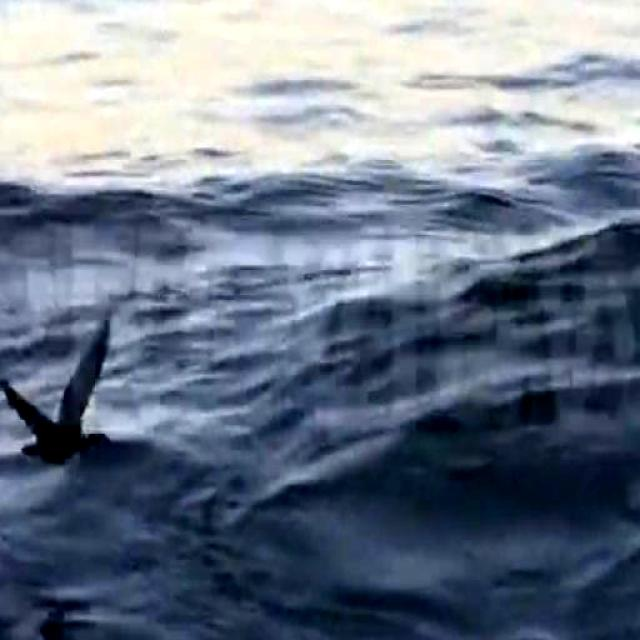airplane: (0, 300, 124, 478)
